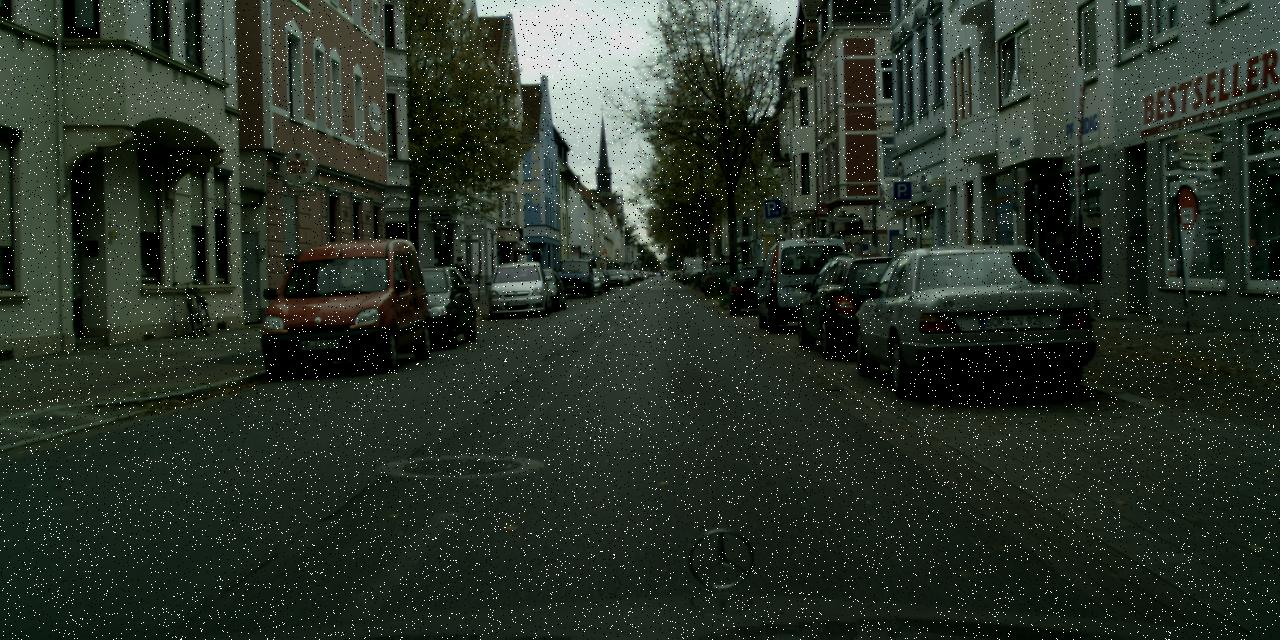ped: (452, 256, 469, 300)
